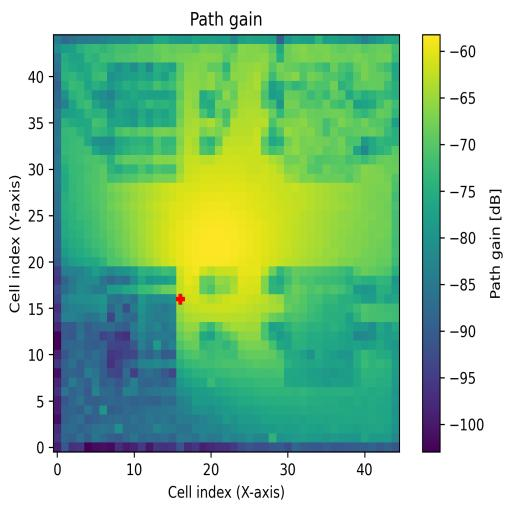Concrete: (284, 63, 360, 182)
Glass: (107, 62, 184, 184)
Metal: (283, 267, 354, 388)
Wood: (100, 267, 176, 388)
